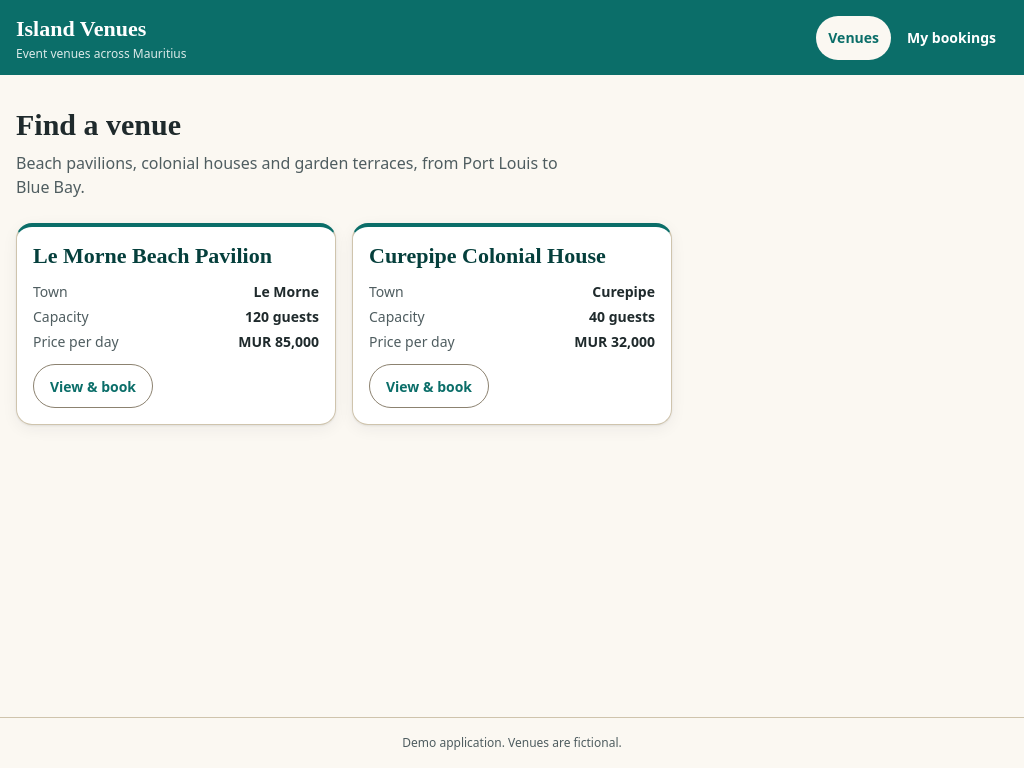
Test: App › marks a booking cancelled when the API confirms with 204 No Content
The image size is (1024, 768).
Click the button "My bookings" at (952, 38), box [895,16,1008,60]
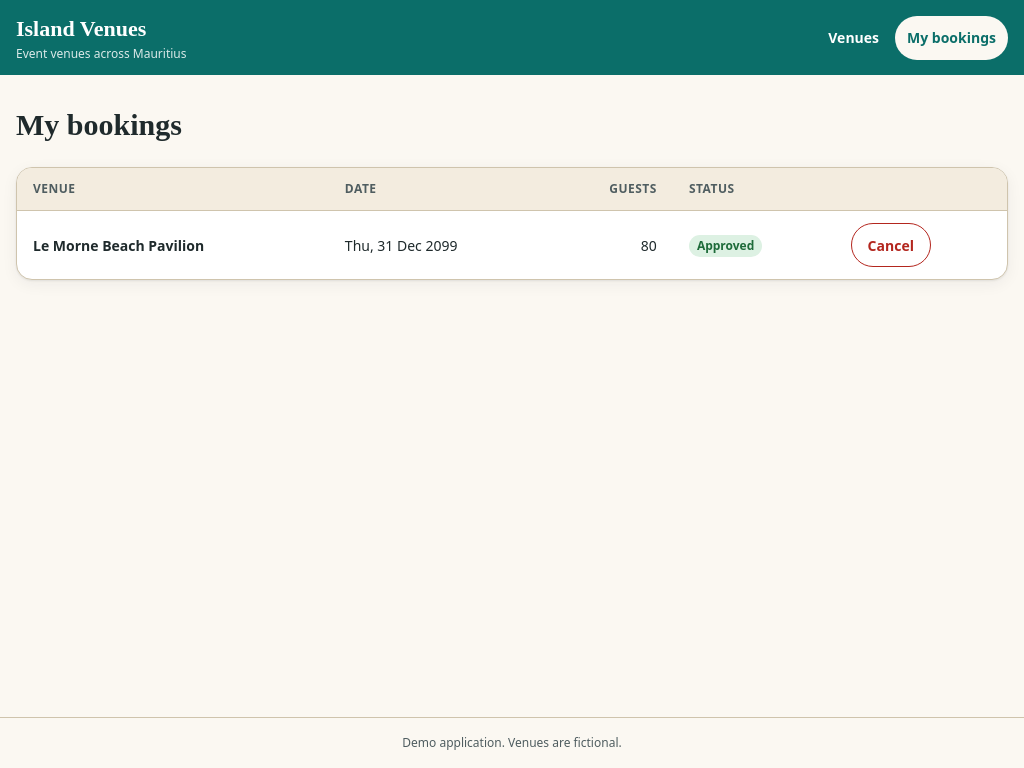
Click the button with aria-label "Cancel booking for Le Morne Beach Pavilion" at (891, 245), box [851,223,931,267]
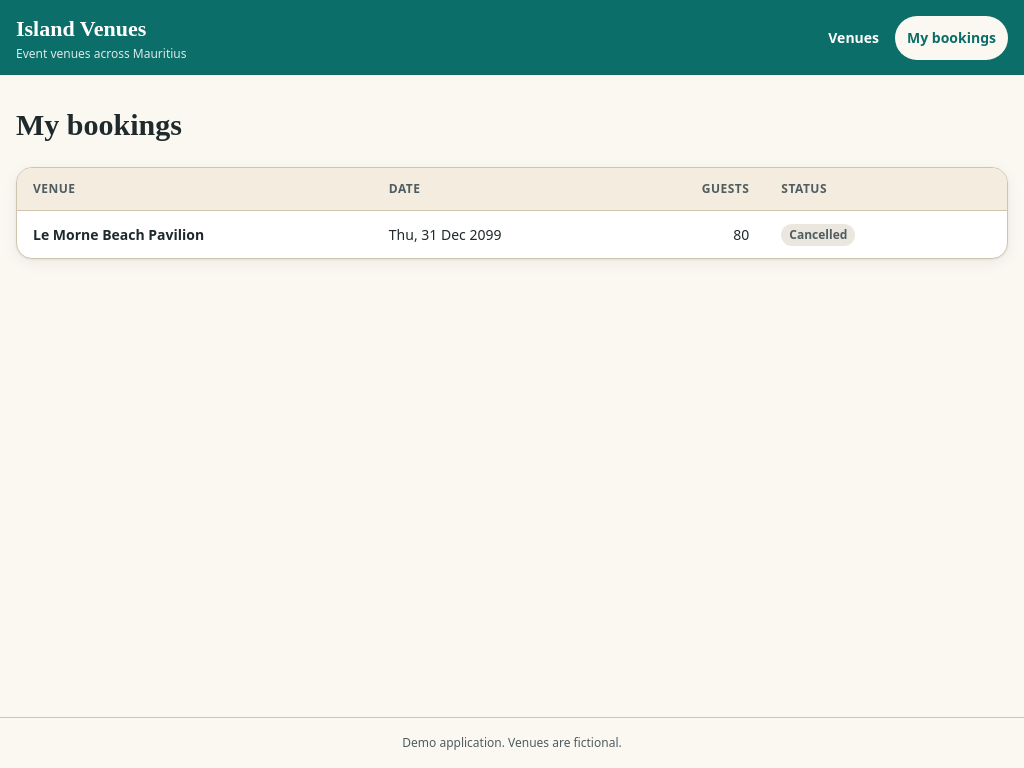
Check: the row "Le Morne Beach Pavilion Thu, 31 Dec 2099 80 Cancelled" is shown, box [17,211,1007,258]
